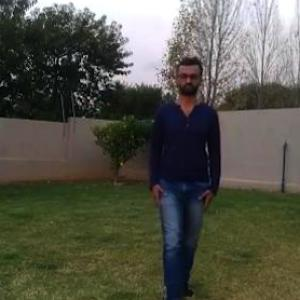follow: (150, 67, 208, 298)
